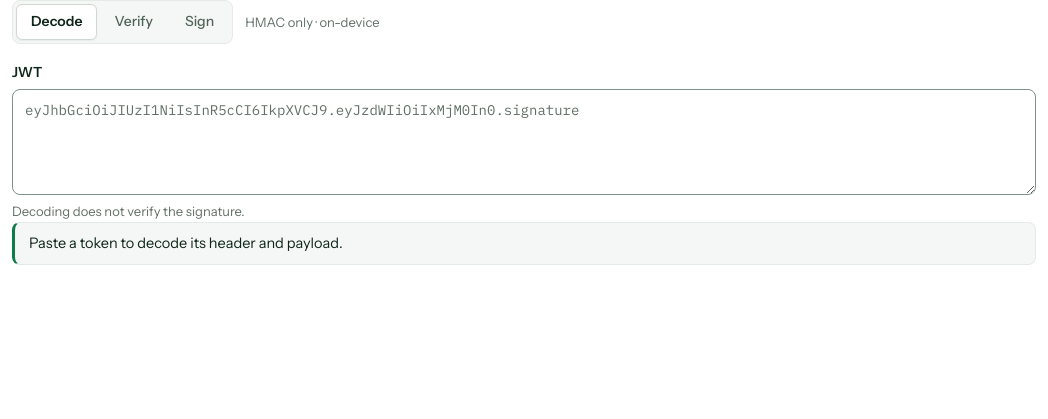
Test: JwtTool › reports an invalid signature for the wrong secret
Click the tab "Verify" at (134, 22), box [100,4,168,40]
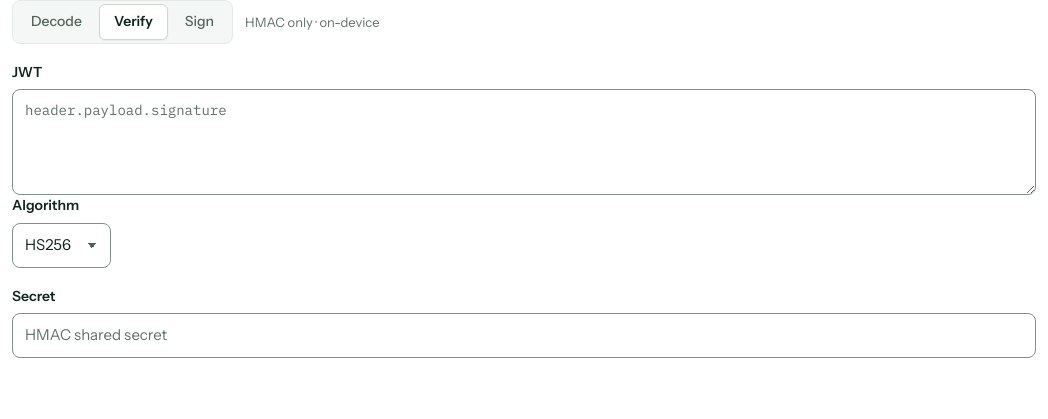
Type "eyJhbGciOiJIUzI1NiIsInR5cCI6IkpXVCJ9.eyJzdWIiOiIxMjM0NTY3ODkwIiwibmFtZSI6IkphbmUgRG9lIiwiaWF0IjoxNTE2MjM5MDIyfQ.vdiPMXjRf8orAkByHfNK6pcpsJJ-EDy62ihzOV2Cre4" into the text box with placeholder "header.payload.signature" at (524, 142), box [12,89,1036,195]
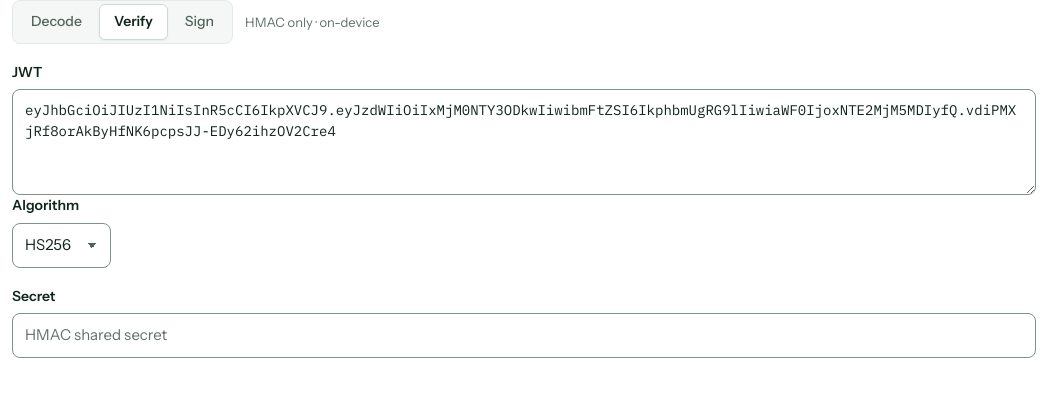
Type "wrong-secret" into the password field with placeholder "HMAC shared secret" at (524, 336), box [12,313,1036,358]
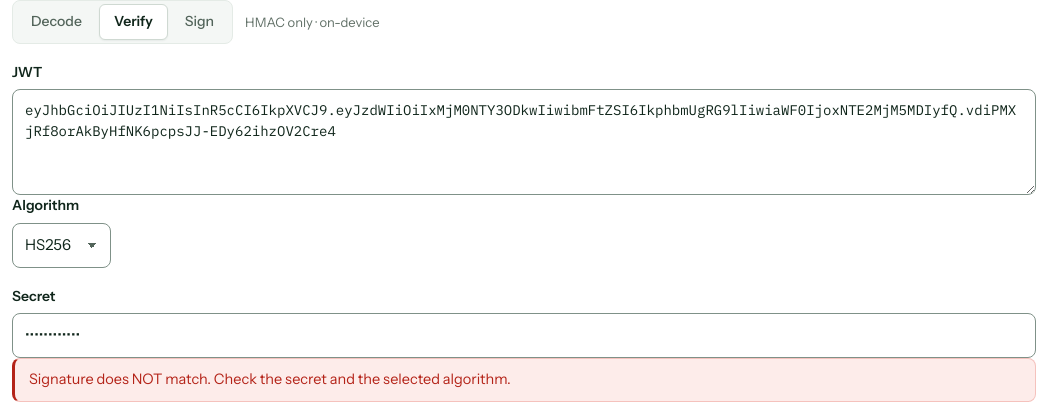
Expected: the text "Signature does NOT match" is shown, [29,370,511,388]
